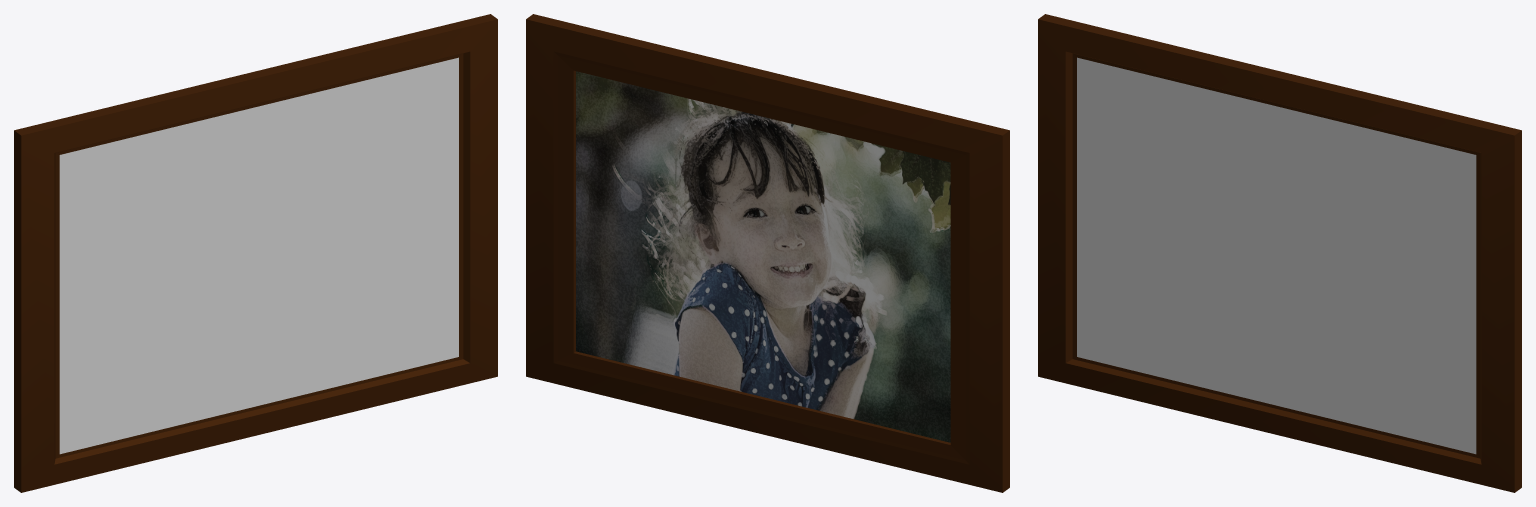
File: PhotoFrameSmile.fbx
The picture shows the model from 3 angles, left to right: view 1: azimuth 30°, elevation 25°; view 2: azimuth 150°, elevation 25°; view 3: azimuth 330°, elevation 25°; orthographic projection.
Parts seen in each view (by area): view 1: GlassFrame1, PhotoFrame; view 2: Photo, PhotoFrame; view 3: GlassFrame1, PhotoFrame.
Boxes of the visible parts, bbox=[...] form: GlassFrame1: bbox=[59, 57, 458, 454]; PhotoFrame: bbox=[14, 14, 497, 492]; Photo: bbox=[576, 71, 950, 442]; PhotoFrame: bbox=[526, 14, 1009, 492]; GlassFrame1: bbox=[1077, 57, 1476, 454]; PhotoFrame: bbox=[1038, 14, 1521, 492].
Size of the model in its own units: 0.9476 by 0.6789 by 0.0434.
Materials: 3 (1 with a texture image).
